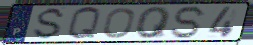4: (207, 5, 236, 39)
O: (102, 7, 137, 40)
Q: (65, 6, 102, 41), (135, 6, 173, 40)
S: (169, 5, 209, 40), (31, 6, 68, 41)
